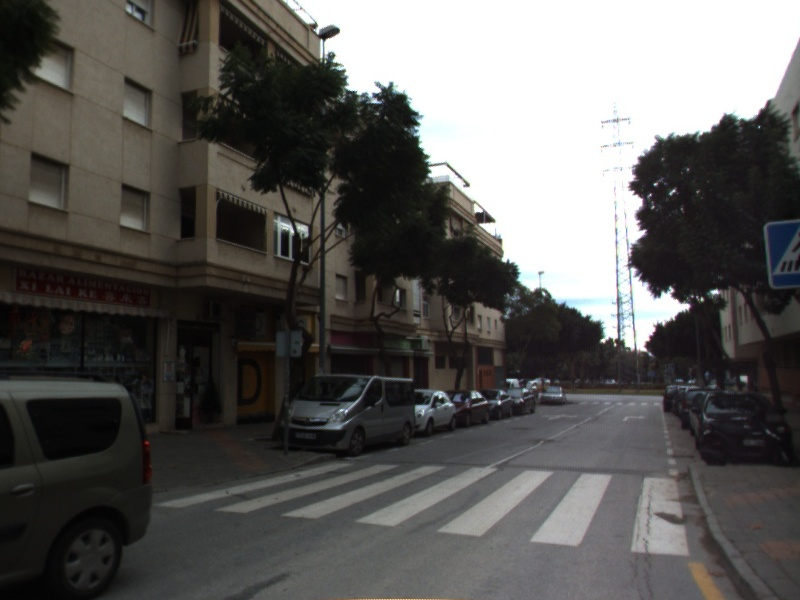RIGHT: (621, 413, 648, 423)
